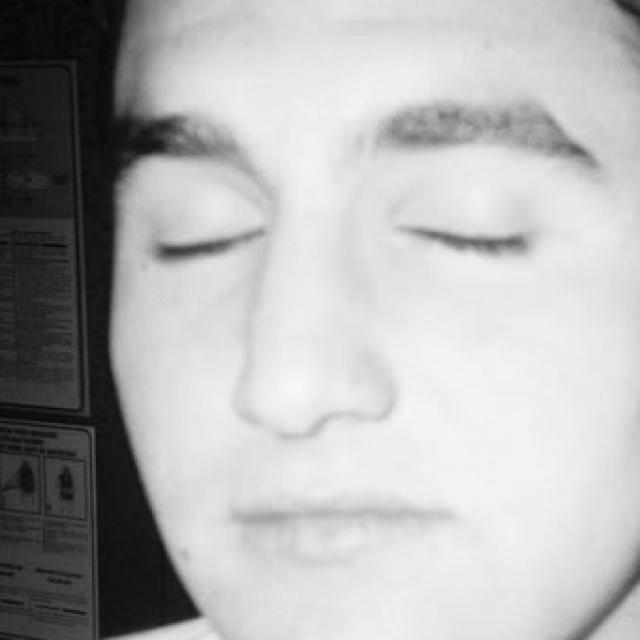real: (108, 0, 640, 640), (132, 186, 546, 303)
